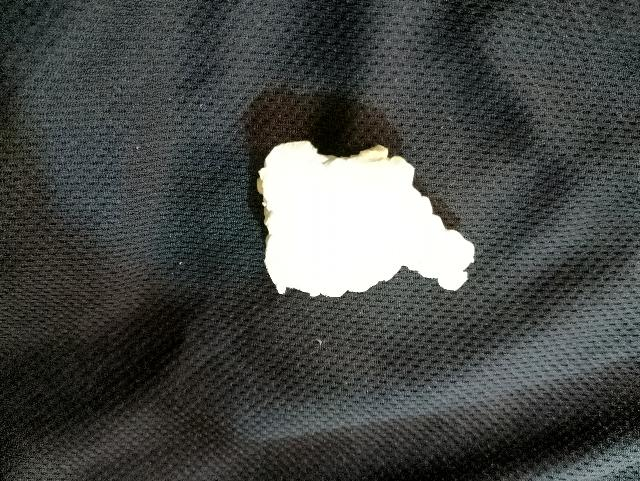cocksheet: (260, 136, 473, 309)
